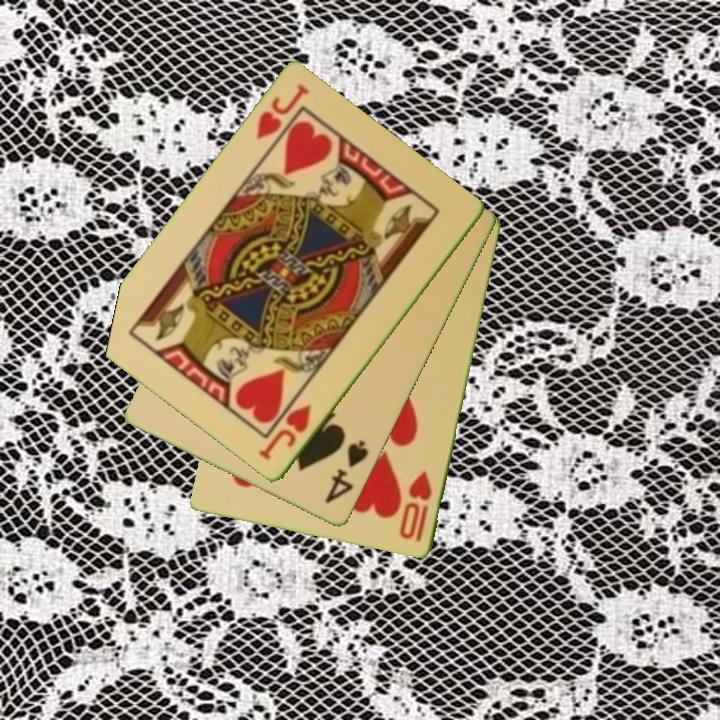10h: (396, 468, 435, 546)
4s: (321, 437, 372, 507)
Jh: (255, 401, 315, 464), (252, 81, 312, 143)
